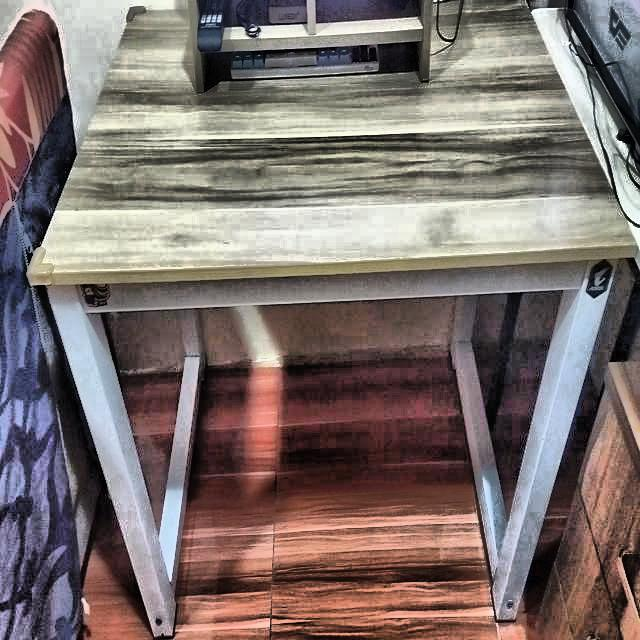mesa: (25, 0, 640, 633)
